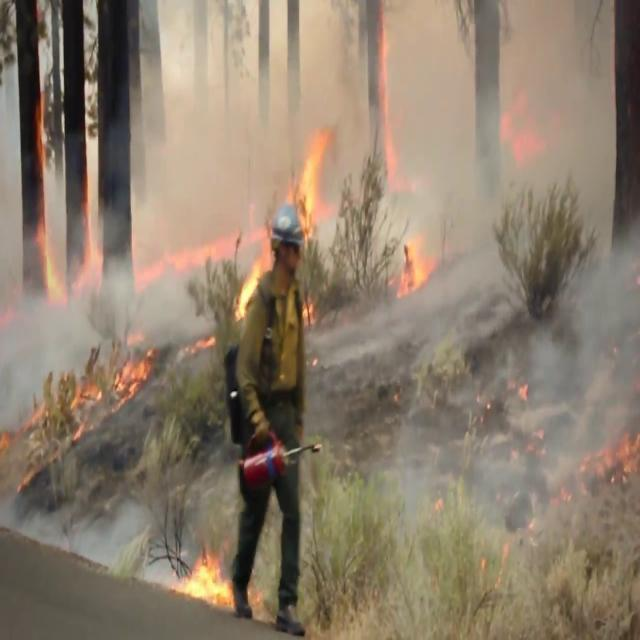Fire: (0, 84, 334, 492), (377, 1, 407, 194), (182, 546, 234, 610), (396, 230, 438, 298), (596, 428, 640, 484)
Smoke: (0, 1, 640, 582)
